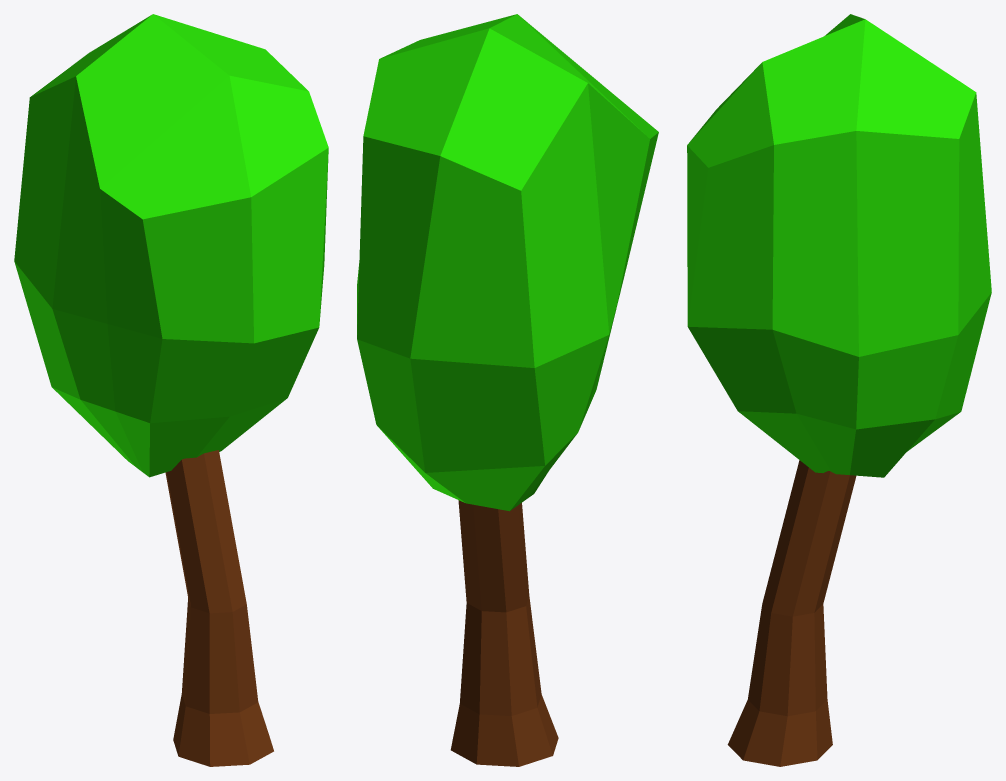
File: Tree3.fbx
3 renders of one model, left to right at view 1: azimuth 30°, elevation 25°; view 2: azimuth 150°, elevation 25°; view 3: azimuth 270°, elevation 25°, orthographic. The views are drawn at different scales.
Parts seen in each view (by area): view 1: Tree3; view 2: Tree3; view 3: Tree3.
Boxes of the visible parts, x1,y1,x2,y2 form: Tree3: (14,14,328,766); Tree3: (357,14,658,766); Tree3: (687,14,991,766).
Bounding box in the file's own units: 119 × 346 × 134.
